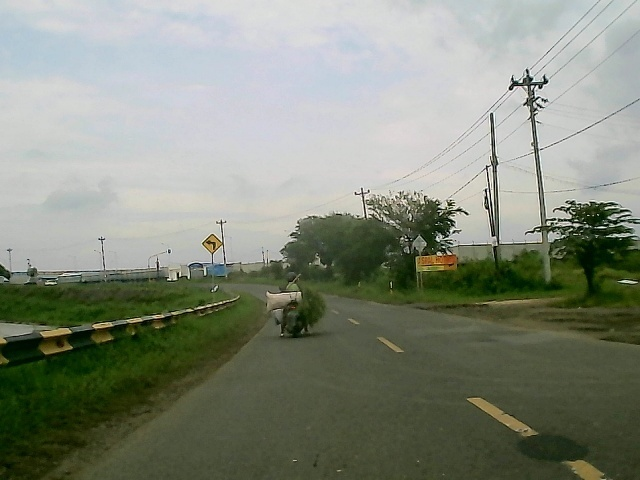Tikungan tajam ke kiri: (200, 232, 222, 256)
